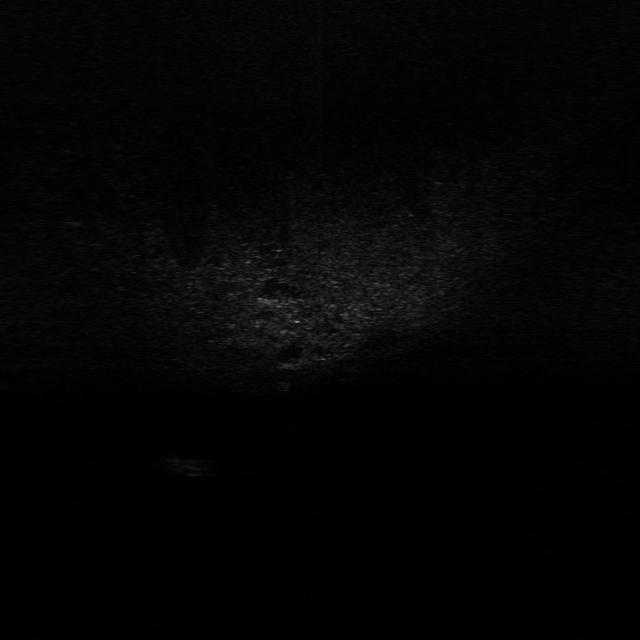circle cage: (159, 450, 217, 478)
cylinder: (278, 376, 294, 394)
